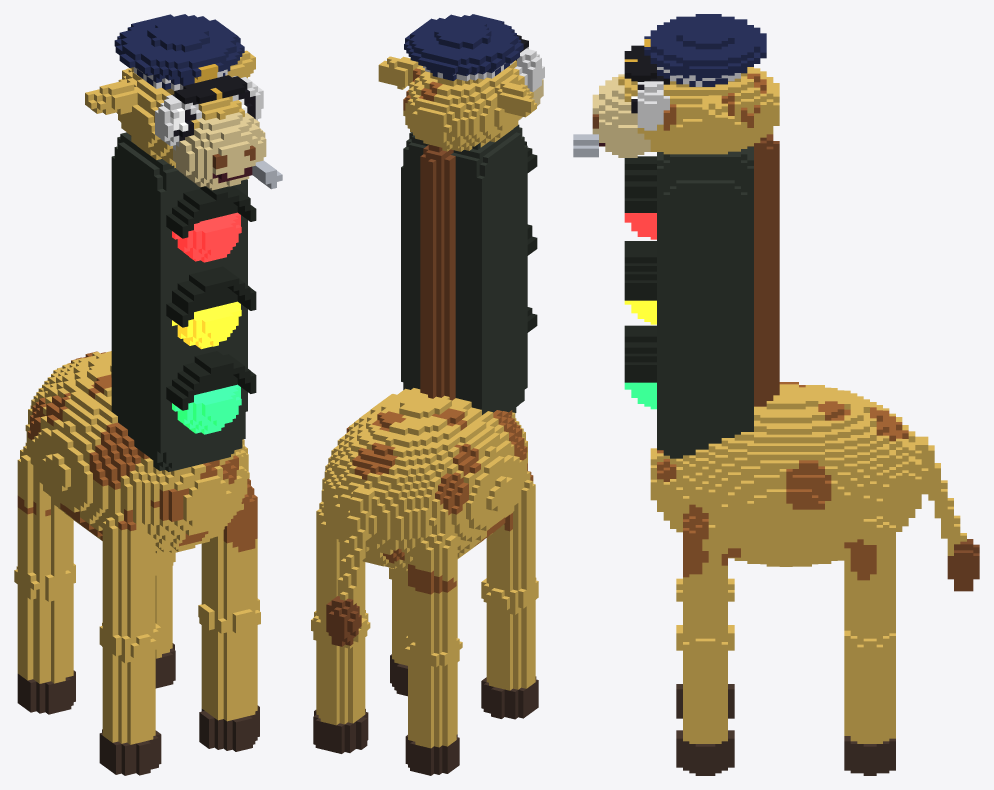
File: semaforino_giraffino.glb
3 renders of one model, left to right at view 1: azimuth 30°, elevation 25°; view 2: azimuth 150°, elevation 25°; view 3: azimuth 270°, elevation 25°, orthographic. The views are drawn at different scales.
Parts seen in each view (by area): view 1: SM_Brainrot_semaforino_giraffino; view 2: SM_Brainrot_semaforino_giraffino; view 3: SM_Brainrot_semaforino_giraffino.
Boxes of the visible parts, x1=… form: SM_Brainrot_semaforino_giraffino: x1=14, y1=14, x2=282, y2=775; SM_Brainrot_semaforino_giraffino: x1=311, y1=14, x2=544, y2=775; SM_Brainrot_semaforino_giraffino: x1=573, y1=14, x2=979, y2=775.
Size of the model in its own units: 1.74 by 7.26 by 3.78.
1 material, 1 textured.
